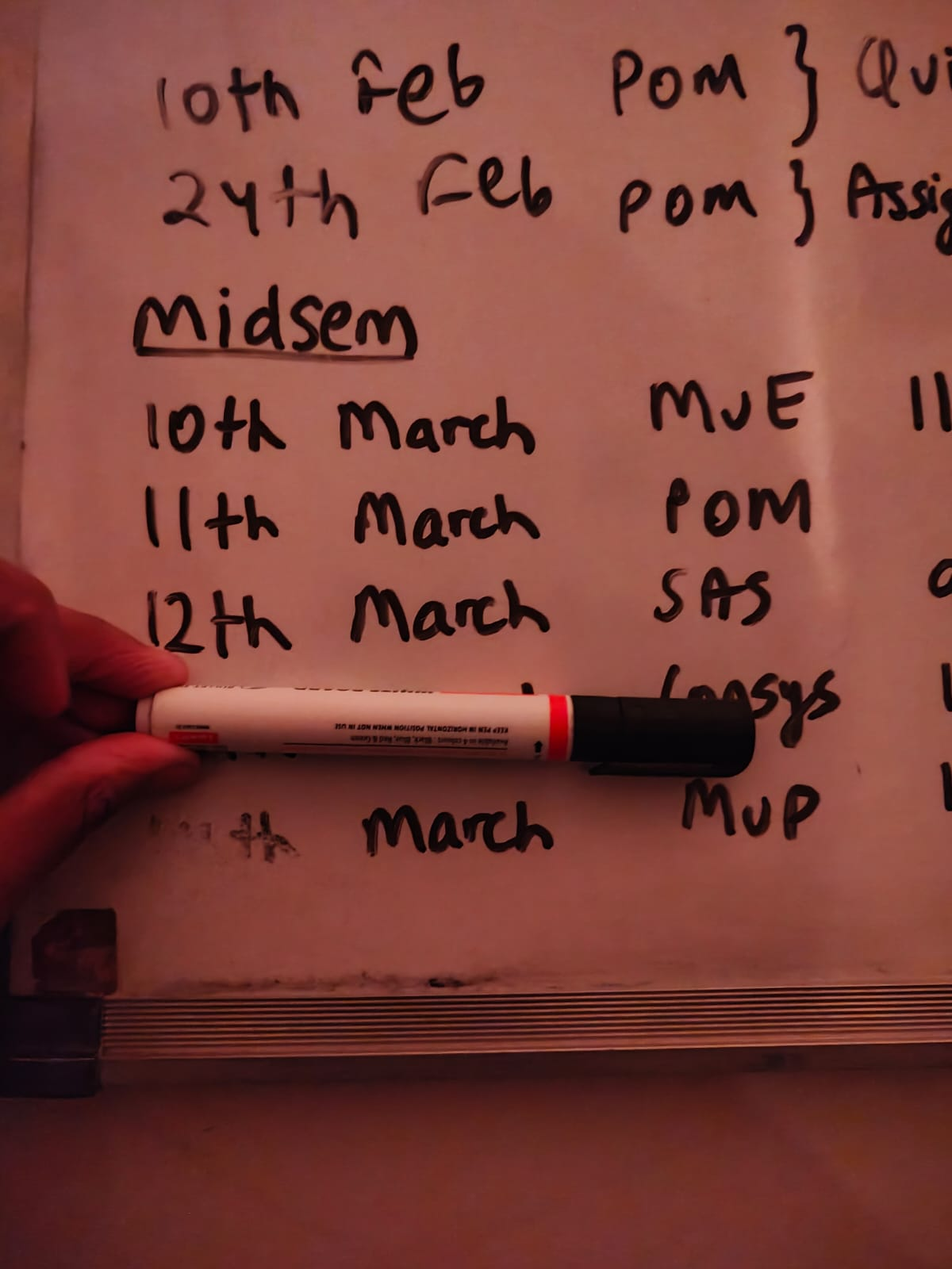case: (122, 653, 766, 800)
